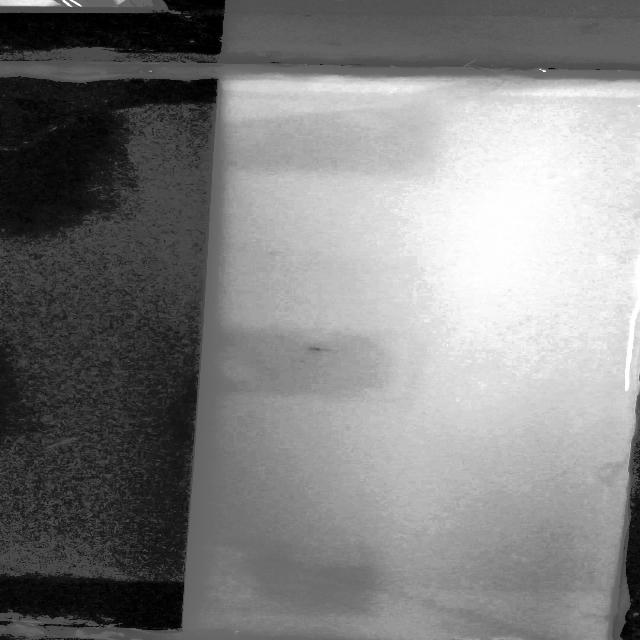shrimp: (295, 338, 342, 359)
